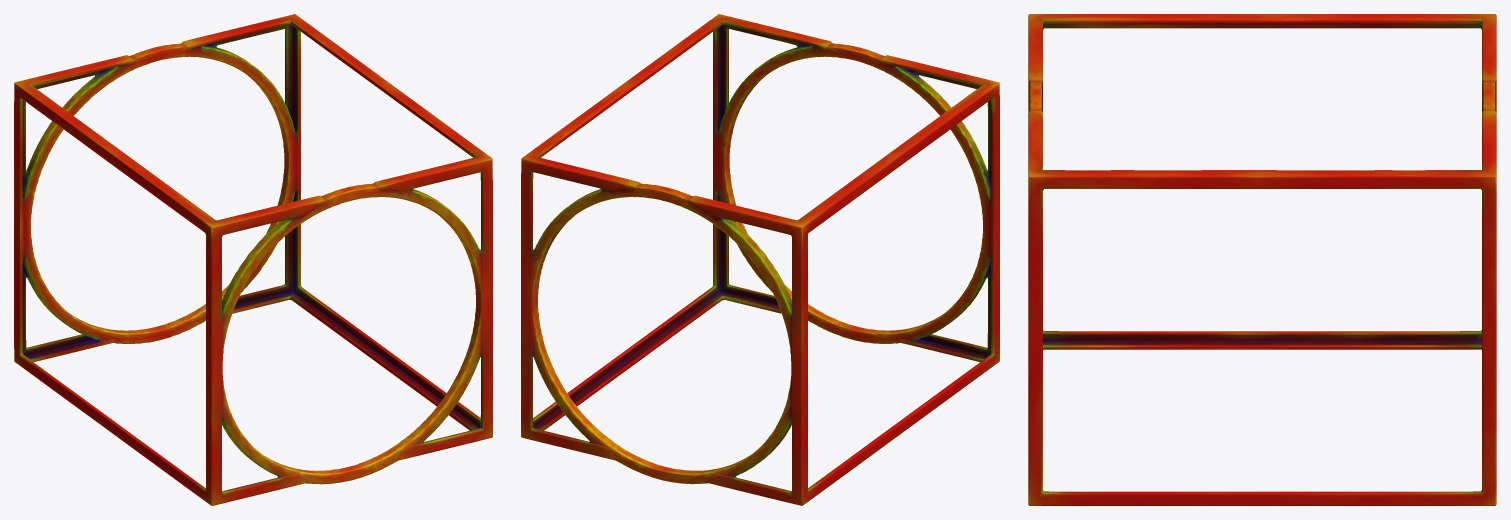
The model's file is RoofCurvedFrameBase.fbx.
The picture shows the model from 3 angles, left to right: view 1: azimuth 30°, elevation 25°; view 2: azimuth 150°, elevation 25°; view 3: azimuth 270°, elevation 25°; orthographic projection. The views are drawn at different scales.
Parts seen in each view (by area): view 1: transform1; view 2: transform1; view 3: transform1.
Boxes of the visible parts, x1,y1,x2,y2 form: transform1: (14, 14, 492, 505); transform1: (521, 14, 999, 505); transform1: (1028, 14, 1496, 505).
Size of the model in its own units: 236 by 288 by 232.
